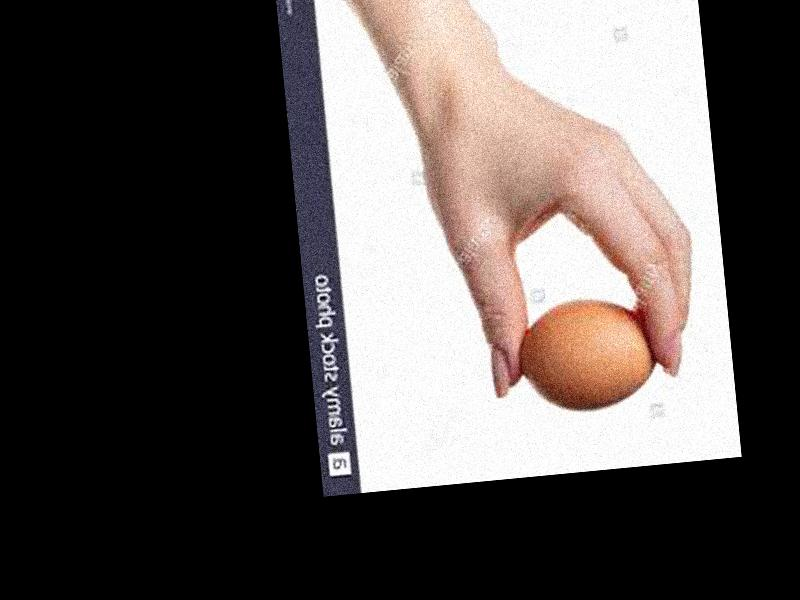Eggs: (517, 291, 659, 415)
